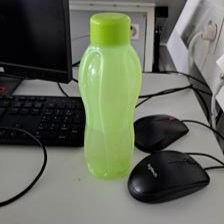bottle: (80, 11, 144, 181)
